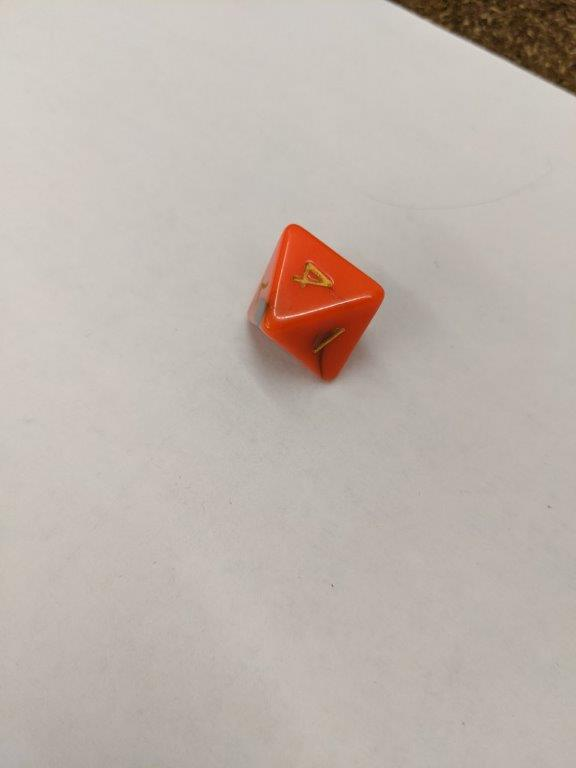d8-4: (245, 223, 385, 386)
